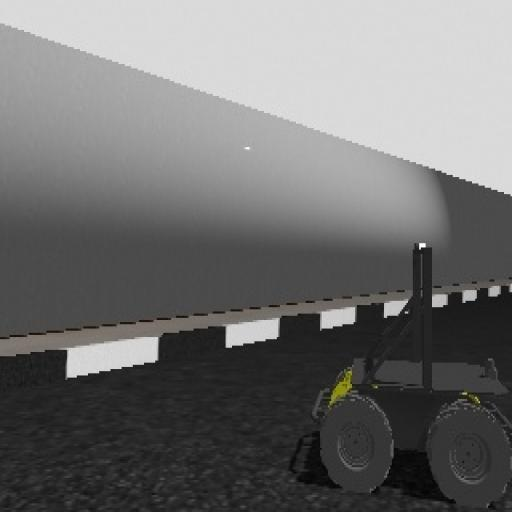huskya200: (299, 223, 512, 512)
